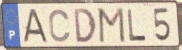5: (152, 7, 172, 43)
A: (21, 8, 50, 44)
C: (48, 8, 72, 44)
D: (72, 7, 98, 44)
L: (126, 8, 148, 42)
M: (98, 6, 127, 44)
